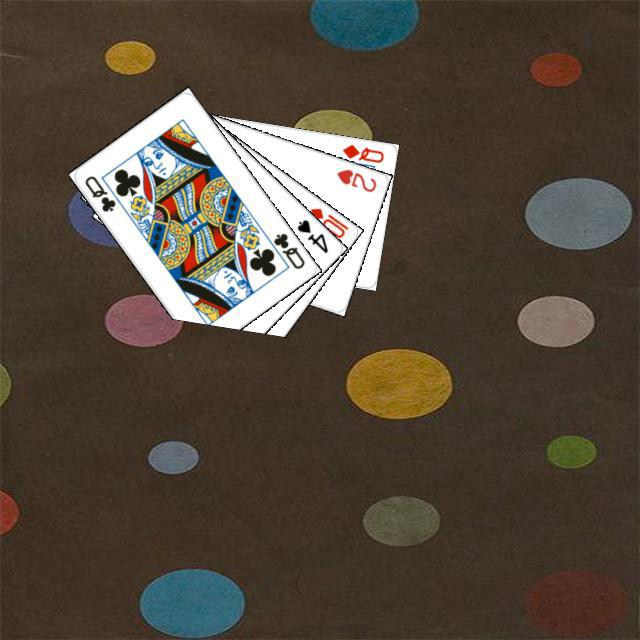10d: (305, 203, 350, 240)
2h: (332, 164, 378, 194)
4s: (292, 214, 330, 255)
Qc: (261, 228, 307, 271), (80, 171, 117, 214)
Qd: (338, 139, 385, 165)
